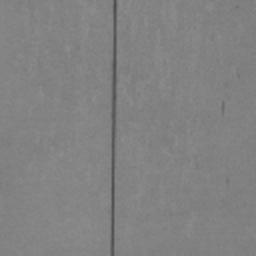Scratches: (110, 0, 118, 256)
